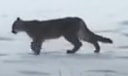Mountain Lion: (9, 14, 117, 55)
